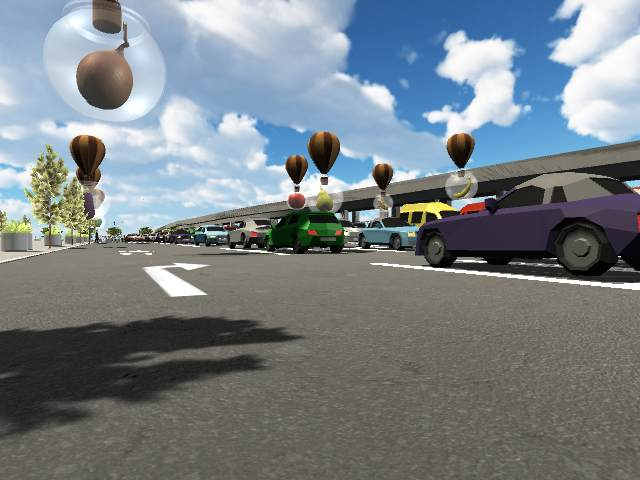ground_right: (138, 259, 213, 272)
